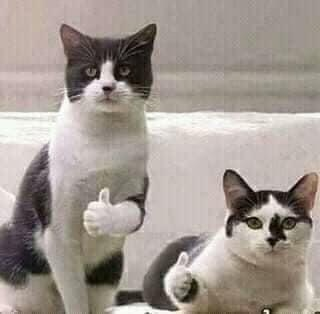cat: (1, 22, 157, 314), (141, 171, 318, 311)
